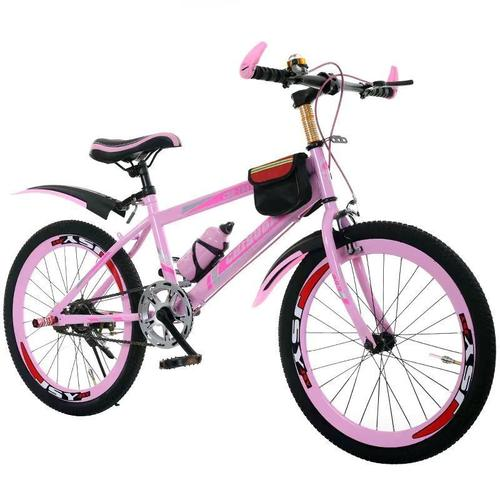单车: (6, 35, 500, 467)
